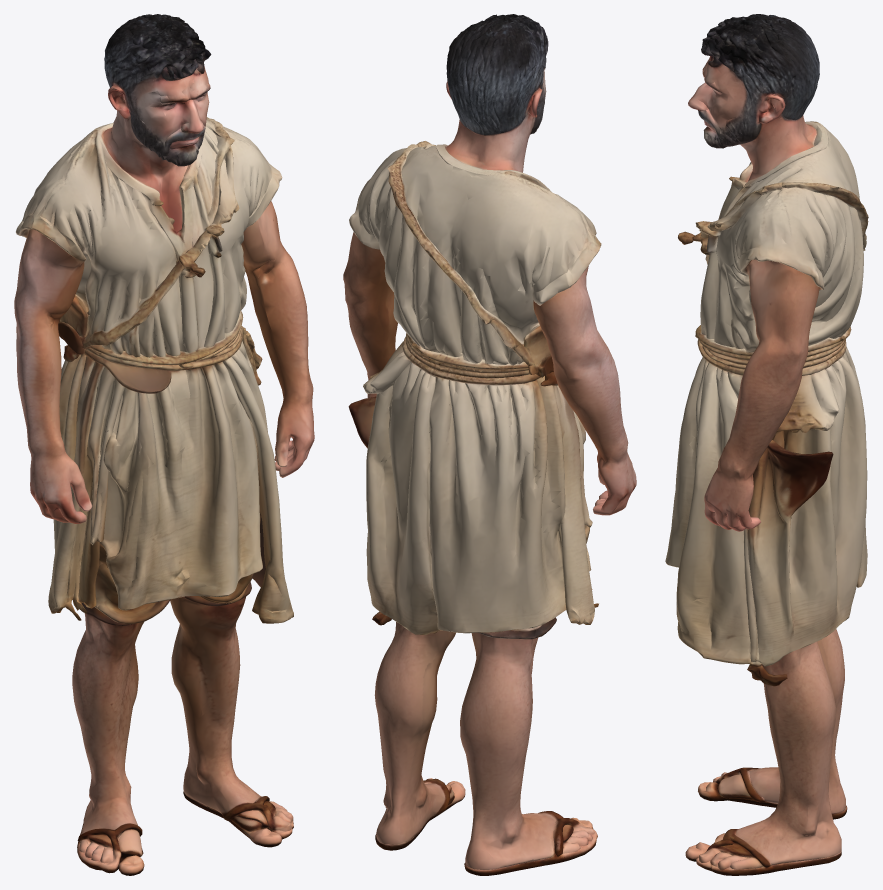
File: hunter_rodin_static_a_pose.glb
3 renders of one model, left to right at view 1: azimuth 30°, elevation 25°; view 2: azimuth 150°, elevation 25°; view 3: azimuth 270°, elevation 25°, orthographic. The views are drawn at different scales.
Visible parts, largest first — view 1: model; view 2: model; view 3: model.
Part boxes in pixels (left/top/right/bottom): model: left=14, top=14, right=314, bottom=875; model: left=343, top=14, right=636, bottom=875; model: left=665, top=14, right=868, bottom=875.
Bounding box in the file's own units: 0.6593 × 1.9 × 0.4347.
Materials: 1 (1 with a texture image).
